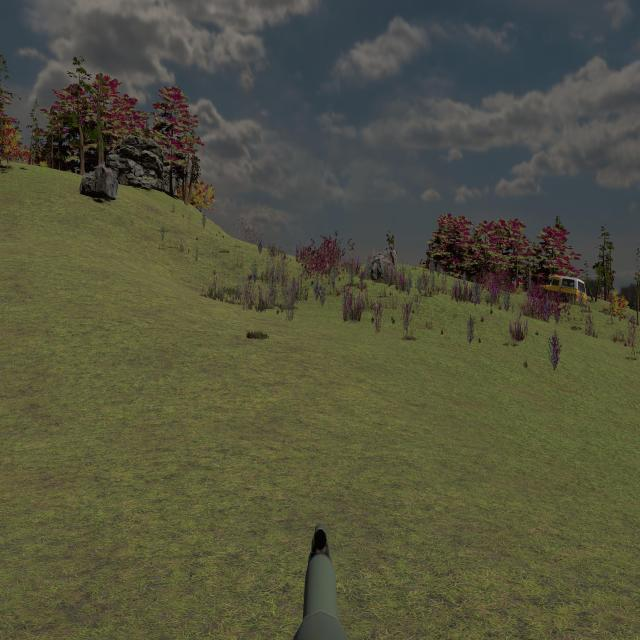car: (541, 275, 586, 310)
